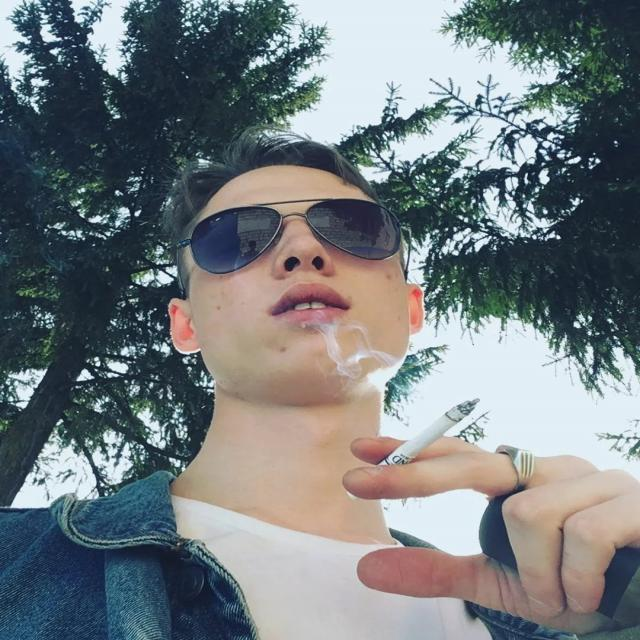cigarette: (374, 394, 483, 471)
